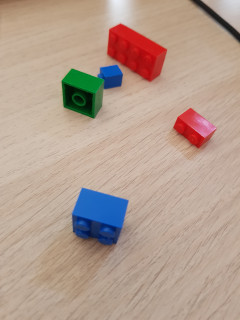1x2 red: (174, 107, 218, 149)
2x2 blue: (71, 188, 129, 250)
2x2 green: (61, 68, 105, 118)
